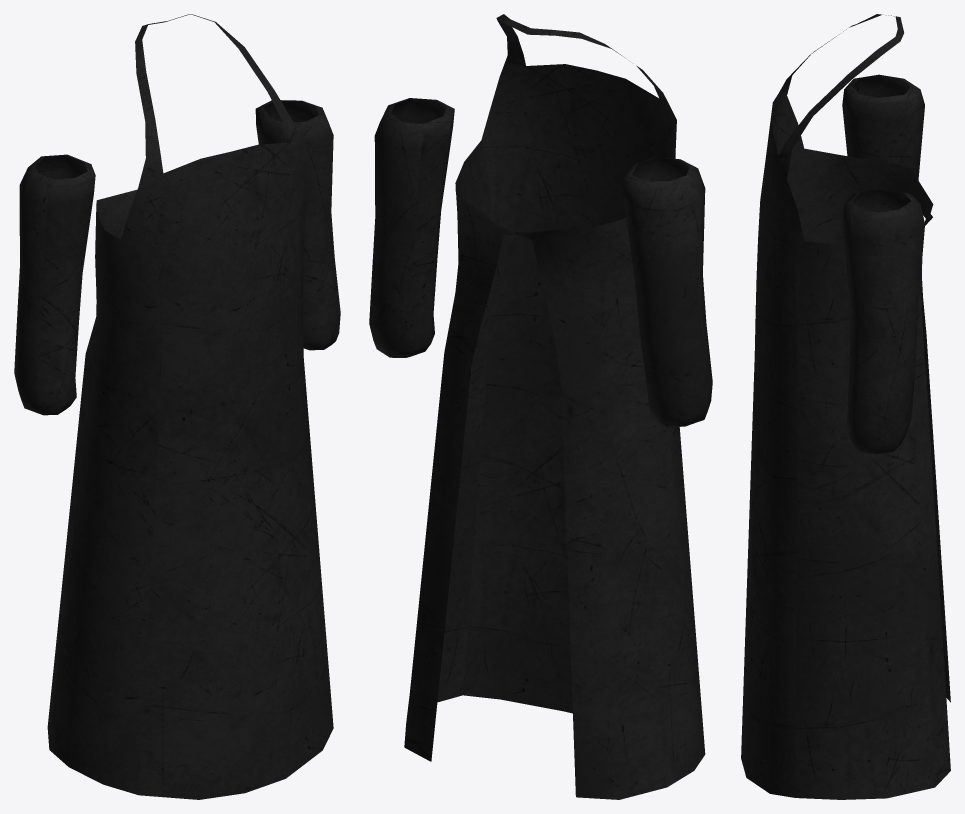
File: pakaian_pelindung_2.fbx
3 views of the same model, side by side, from view 1: azimuth 30°, elevation 25°; view 2: azimuth 150°, elevation 25°; view 3: azimuth 270°, elevation 25° (orthographic). The views are drawn at different scales.
Parts seen in each view (by area): view 1: pakaian_pelindung_2; view 2: pakaian_pelindung_2; view 3: pakaian_pelindung_2.
Part boxes in pixels (x1,y1,x2,y2): pakaian_pelindung_2: (14, 14, 340, 799); pakaian_pelindung_2: (369, 14, 712, 799); pakaian_pelindung_2: (741, 14, 950, 799).
Size of the model in its own units: 74.43 by 160 by 41.68.
Materials: 1 (1 with a texture image).
